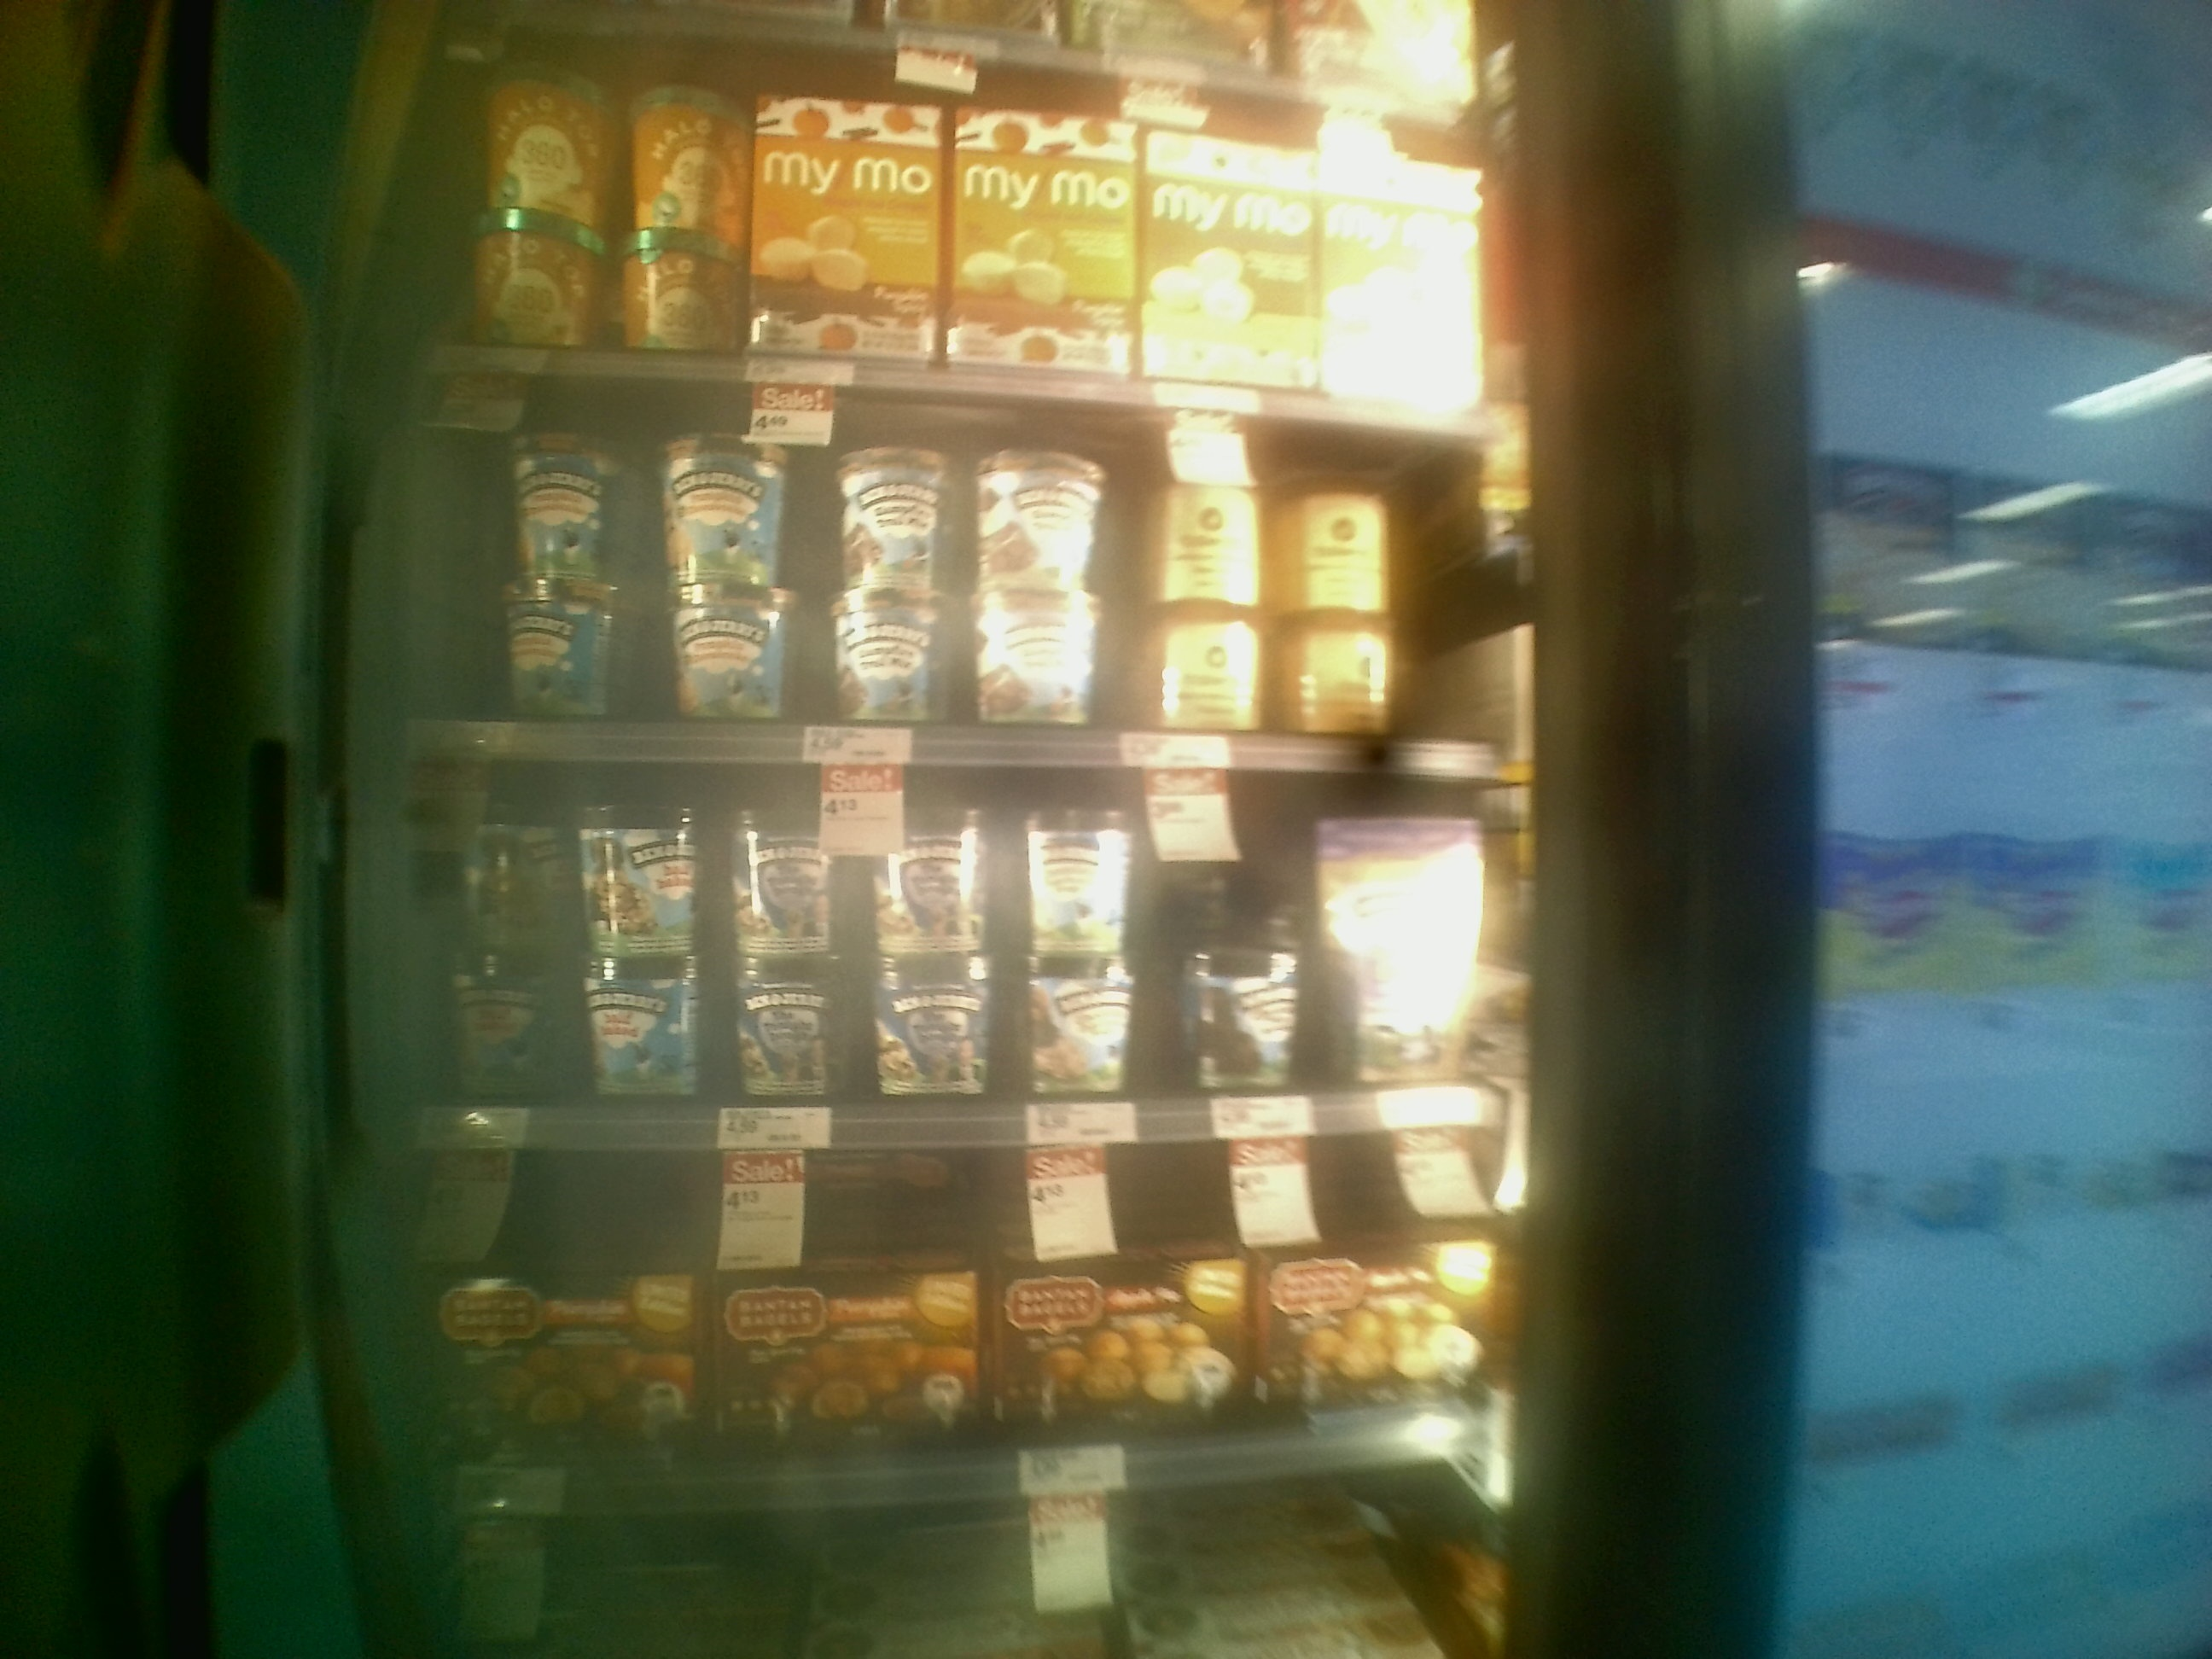shelf: (355, 375, 1536, 784), (383, 742, 1522, 1154), (383, 1150, 1529, 1502)
